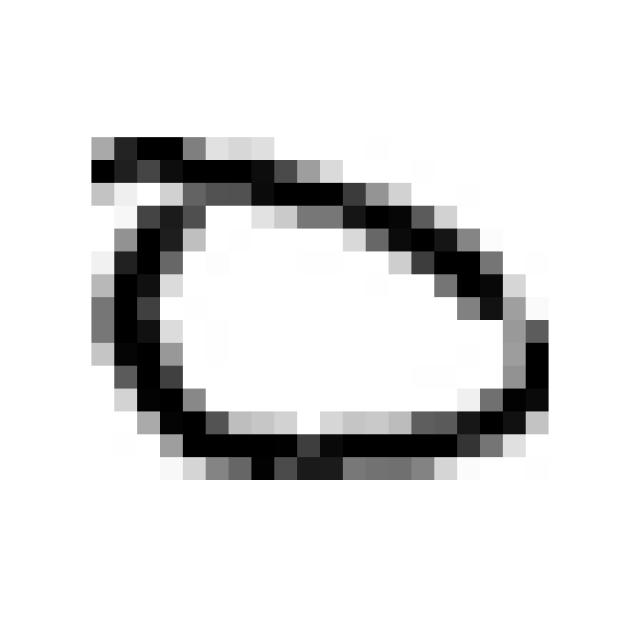5 -five-: (55, 119, 561, 496)
